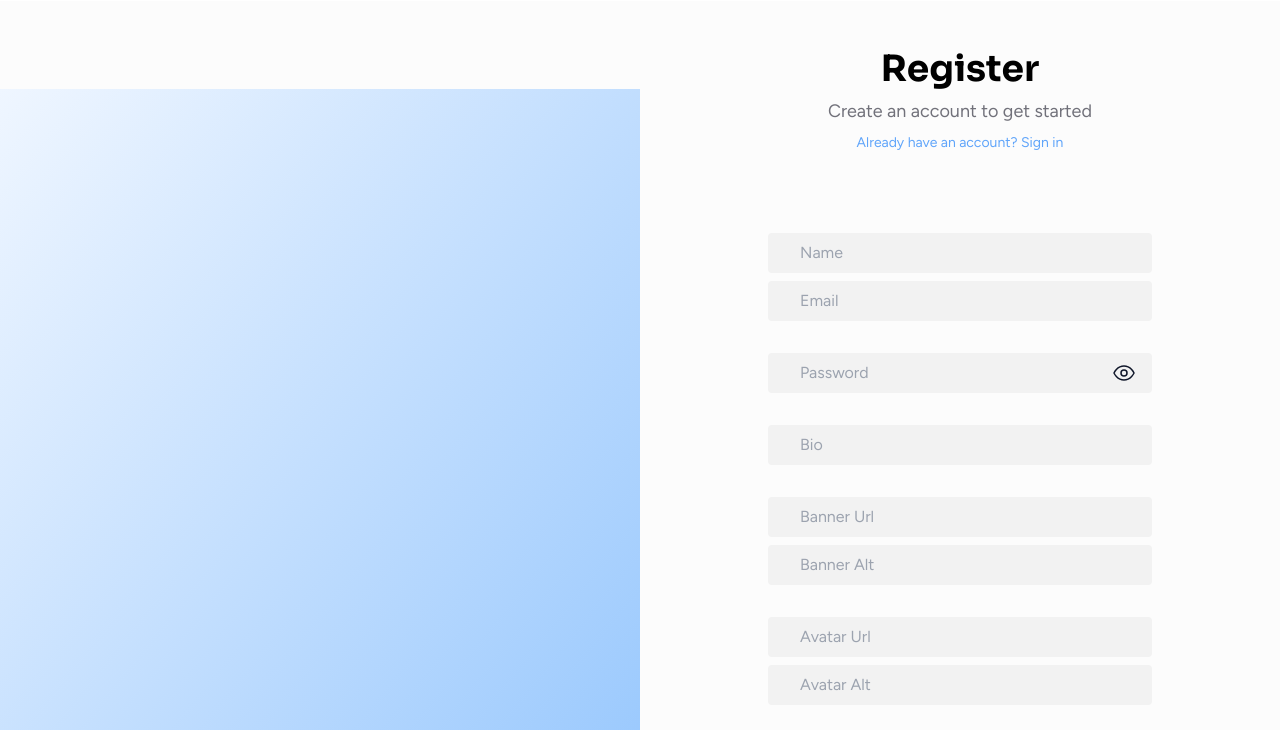
Test: Register Form Errors › Should get error when alt text and no url
The width and height of the screenshot is (1280, 730).
Type "Test" into the field with id "bannerAlt-input" at (960,565), box [768,545,1152,585]
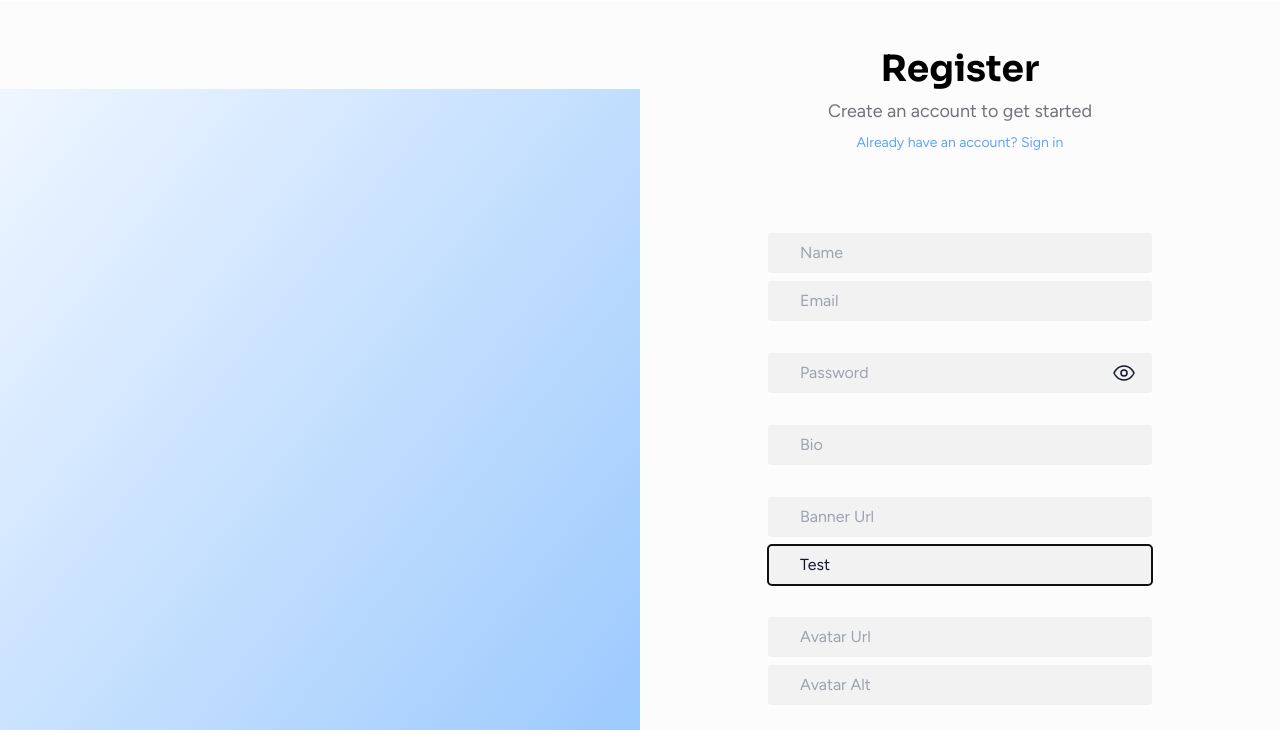
Scroll
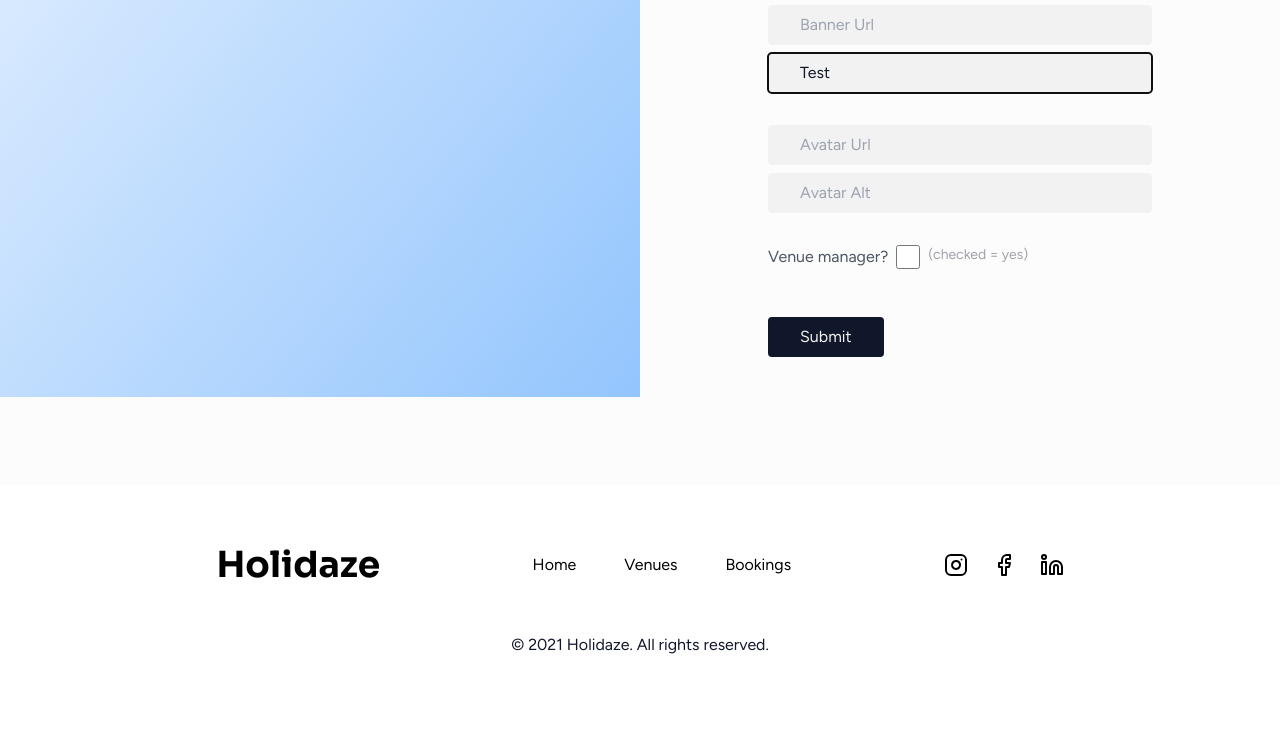
Click the button with id "submit-register-button" at (826,337), box [768,317,884,357]
(page scrolled)
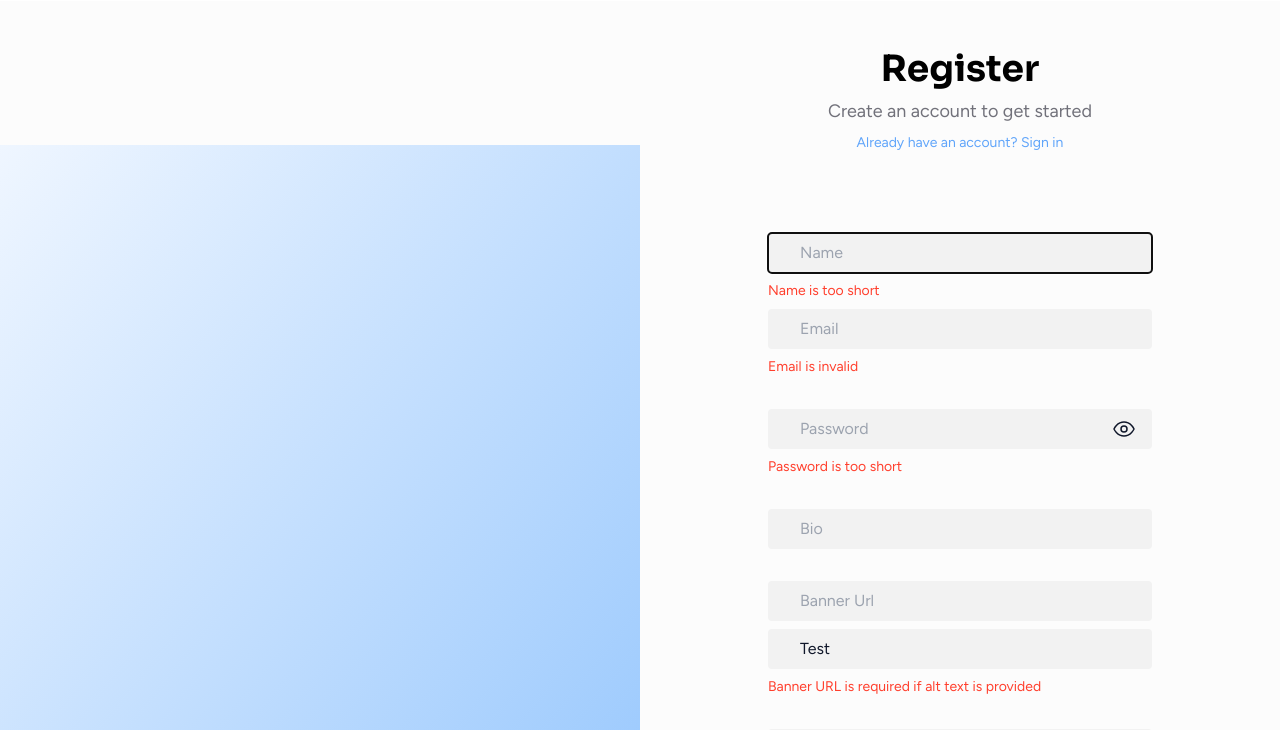
Check: the text "Banner URL is required if alt text is provided" is shown, box [768,678,1041,695]
